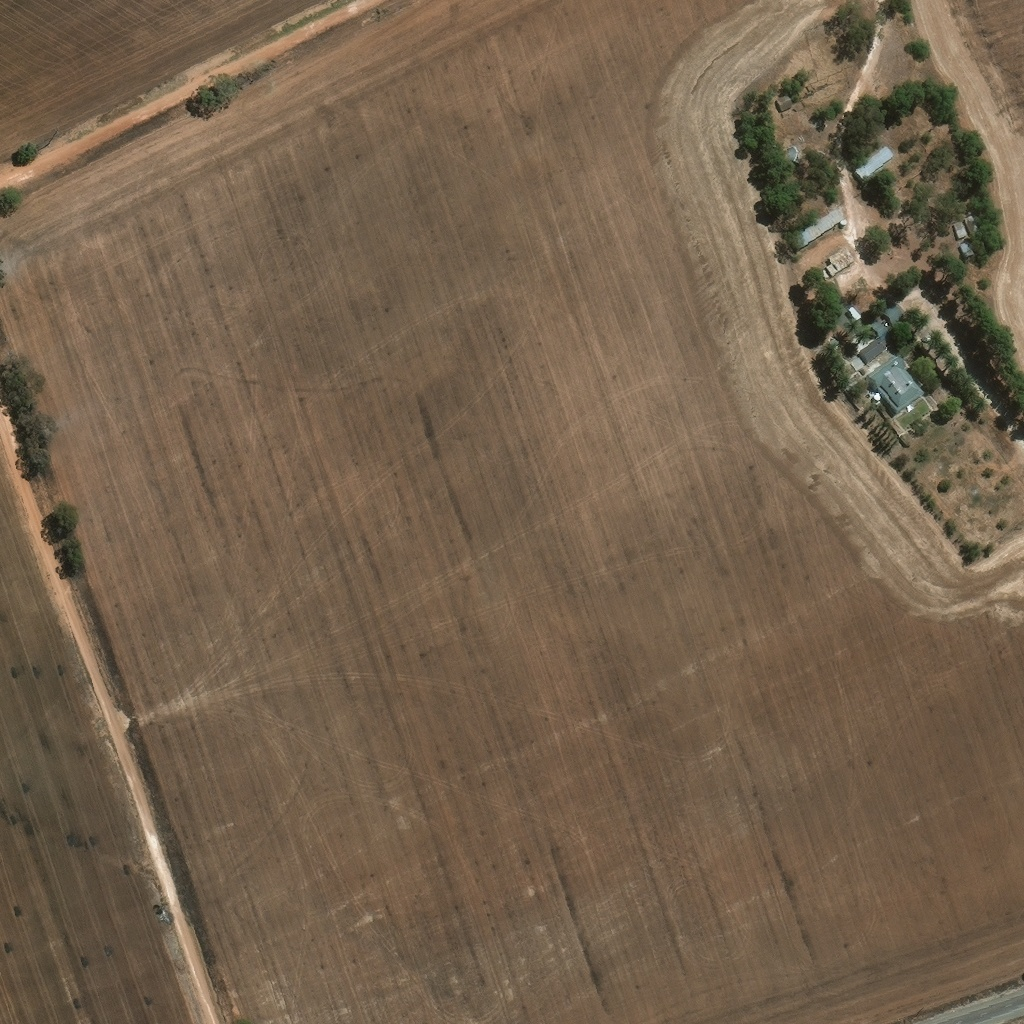0 no-damage: (867, 363, 926, 425), (793, 217, 848, 259), (855, 154, 898, 193), (859, 343, 896, 374), (827, 256, 856, 286), (872, 324, 894, 345), (885, 314, 906, 336), (776, 102, 797, 122), (790, 153, 808, 175), (968, 224, 984, 243), (957, 230, 973, 248), (841, 229, 851, 239), (873, 402, 882, 411)
4 un-classified: (960, 210, 976, 222)
